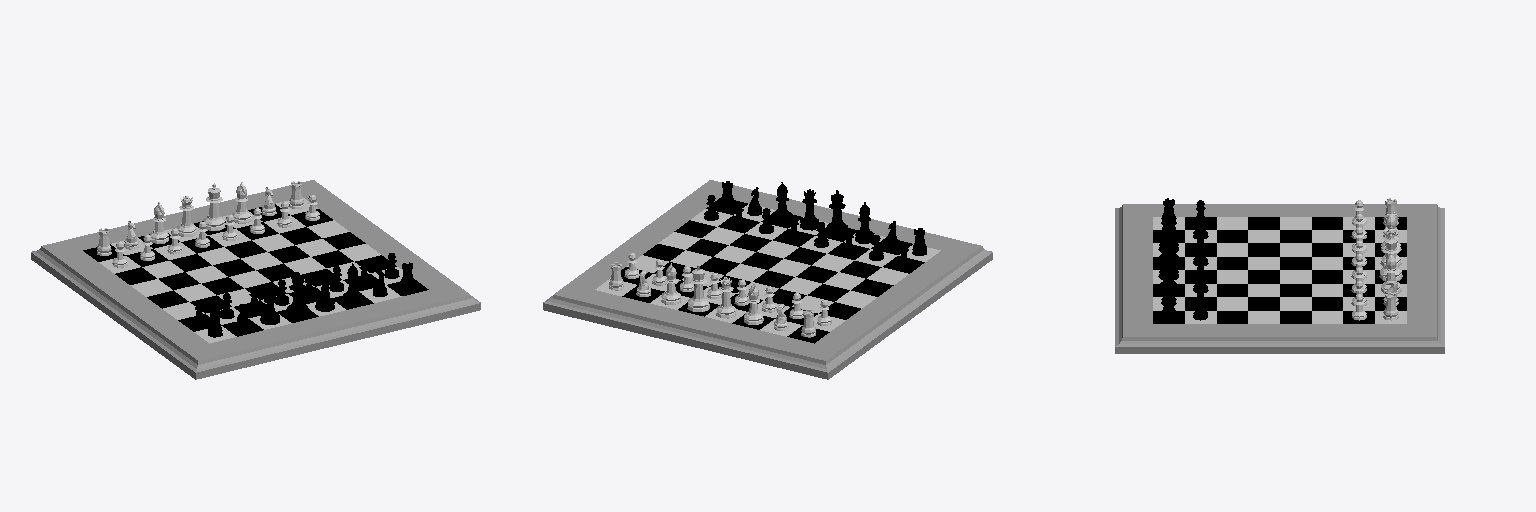
Rendered from chess.obj.
The picture shows the model from 3 angles: view 1: azimuth 30°, elevation 25°; view 2: azimuth 150°, elevation 25°; view 3: azimuth 270°, elevation 25°; orthographic projection.
Visible parts, largest first — view 1: Chessboard_Surround_Plane.001; view 2: Chessboard_Surround_Plane.001; view 3: Chessboard_Surround_Plane.001.
Part boxes in pixels (bbox=[...]): Chessboard_Surround_Plane.001: bbox=[31, 180, 480, 379]; Chessboard_Surround_Plane.001: bbox=[543, 180, 992, 379]; Chessboard_Surround_Plane.001: bbox=[1115, 198, 1444, 353].
Bounding box in the file's own units: 2.53 × 0.4845 × 2.53.